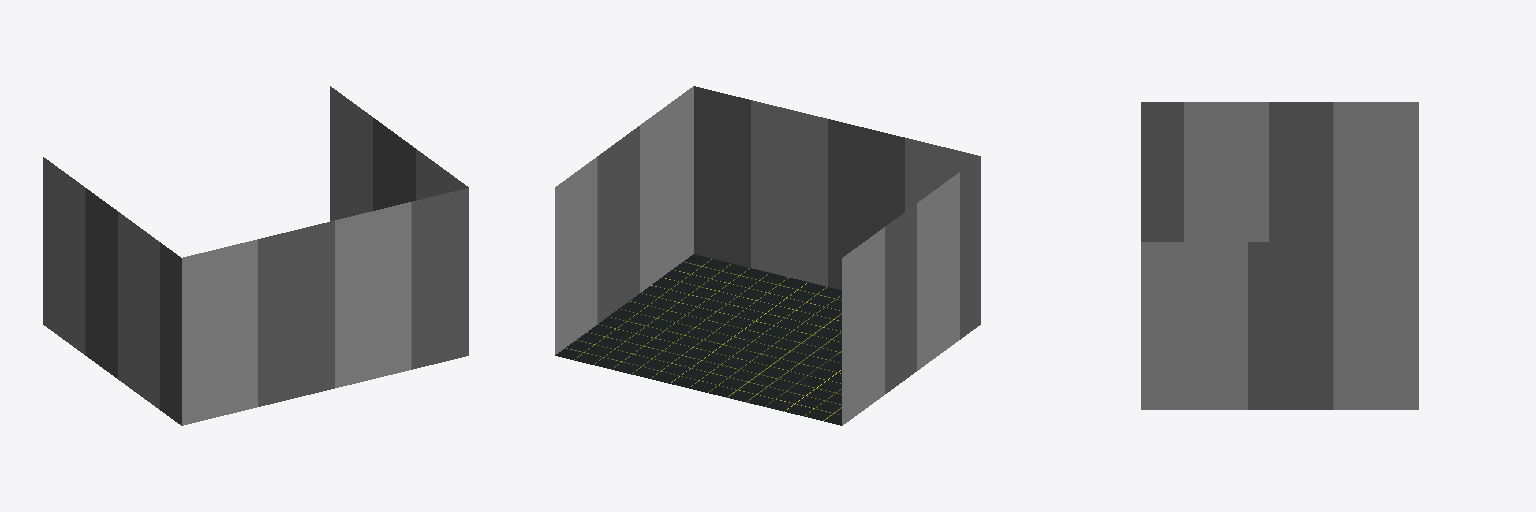
3 views of the same model, side by side, from view 1: azimuth 30°, elevation 25°; view 2: azimuth 150°, elevation 25°; view 3: azimuth 270°, elevation 25° (orthographic).
Visible parts, largest first — view 1: Plane.001; view 2: Plane.001; view 3: Plane.001.
Part boxes in pixels (left/top/right/bottom): Plane.001: left=43, top=86, right=468, bottom=425; Plane.001: left=555, top=86, right=980, bottom=425; Plane.001: left=1141, top=102, right=1418, bottom=409.
Size of the model in its own units: 31.01 by 17.32 by 25.92.
Materials: 1 (1 with a texture image).